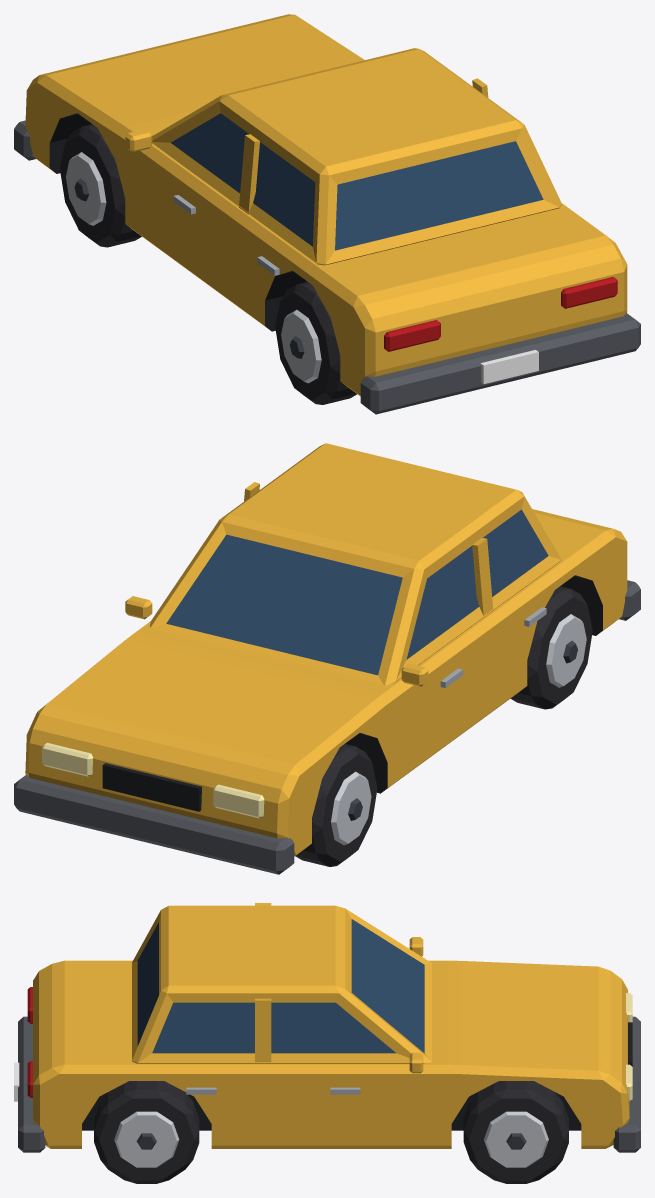
Rendered from Car_Yellow.glb.
3 views of the same model, one above another, from view 1: azimuth 30°, elevation 25°; view 2: azimuth 150°, elevation 25°; view 3: azimuth 270°, elevation 25° (orthographic). The views are drawn at different scales.
Parts seen in each view (by area): view 1: Car_Yellow_Body, Car_Yellow_Wheel_FL, Car_Yellow_Wheel_RL; view 2: Car_Yellow_Body, Car_Yellow_Wheel_FL, Car_Yellow_Wheel_RL; view 3: Car_Yellow_Body, Car_Yellow_Wheel_FR, Car_Yellow_Wheel_RR.
Part boxes in pixels (bbox=[...]): Car_Yellow_Body: bbox=[14, 14, 640, 414]; Car_Yellow_Wheel_FL: bbox=[60, 124, 141, 247]; Car_Yellow_Wheel_RL: bbox=[275, 282, 356, 404]; Car_Yellow_Body: bbox=[14, 443, 640, 874]; Car_Yellow_Wheel_FL: bbox=[295, 744, 377, 866]; Car_Yellow_Wheel_RL: bbox=[510, 586, 592, 709]; Car_Yellow_Body: bbox=[14, 903, 640, 1152]; Car_Yellow_Wheel_FR: bbox=[463, 1081, 568, 1183]; Car_Yellow_Wheel_RR: bbox=[94, 1081, 199, 1183].
Bounding box in the file's own units: 2.16 × 1.5 × 4.58.
Materials: 1 (1 with a texture image).
